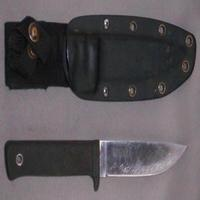knife: (5, 131, 187, 189)
